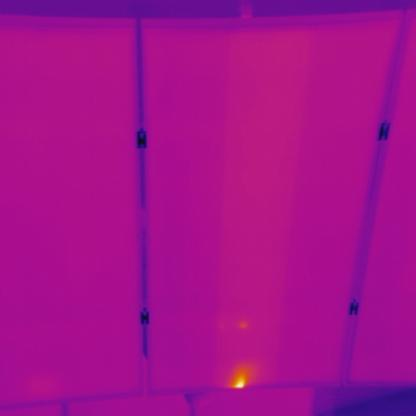hotspot: (230, 364, 256, 393)
